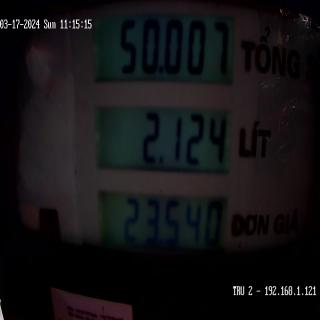screen: (90, 3, 241, 279)
